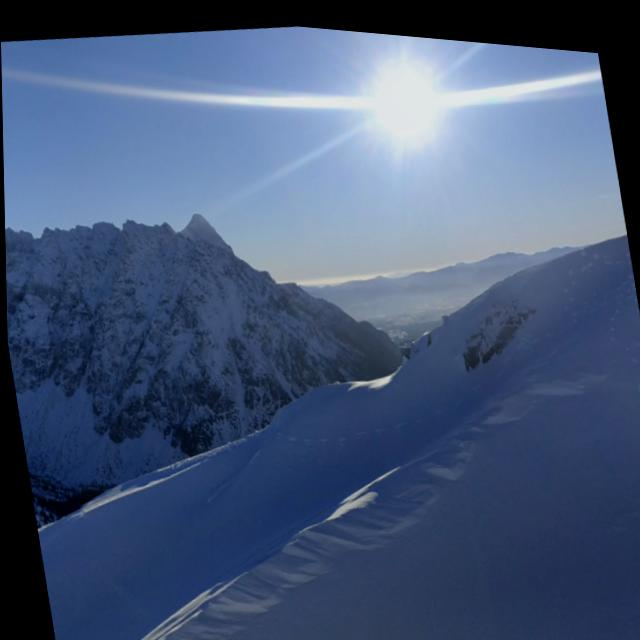Krivan: (86, 87, 309, 337)
